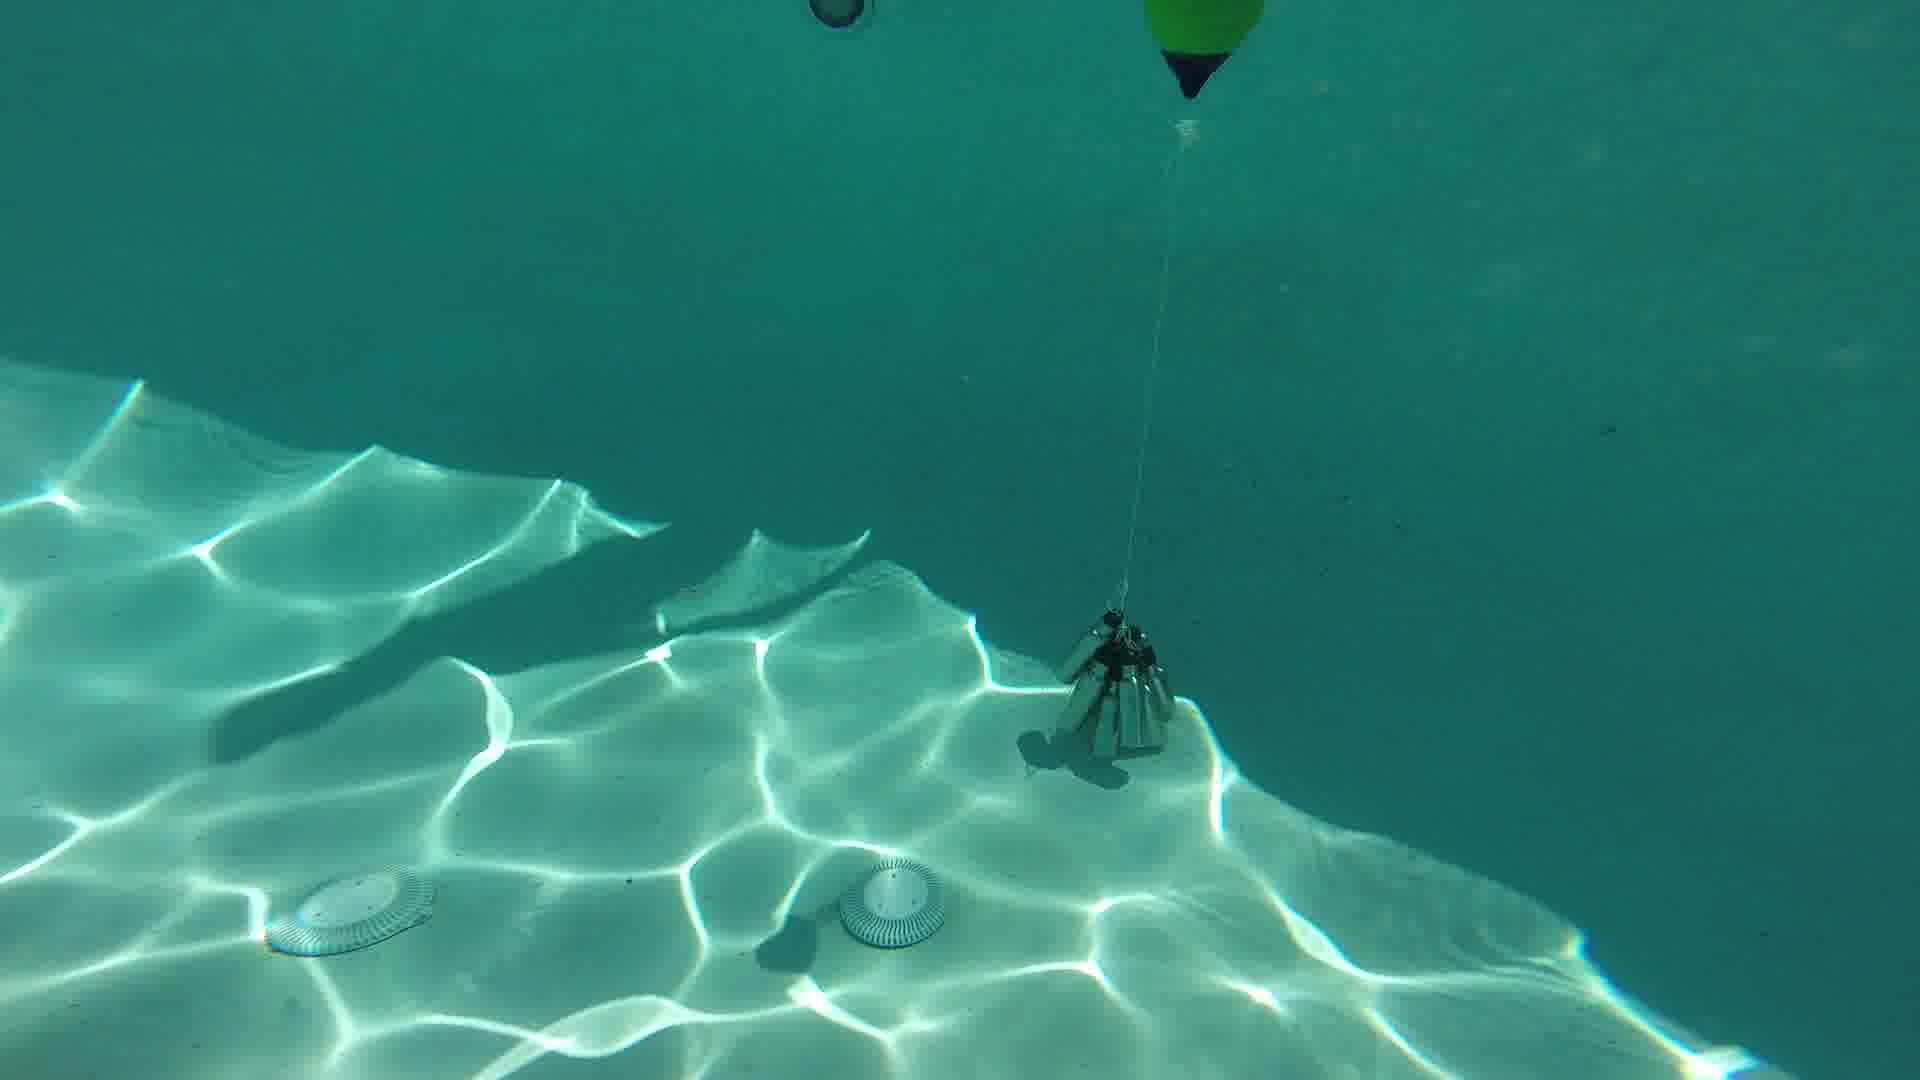yellow_buoy: (1139, 1, 1266, 149)
